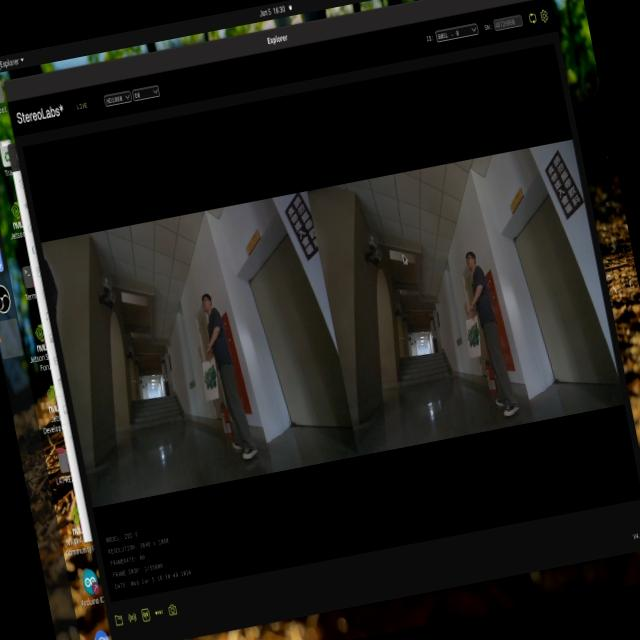green: (195, 362, 220, 398), (464, 320, 484, 350)
